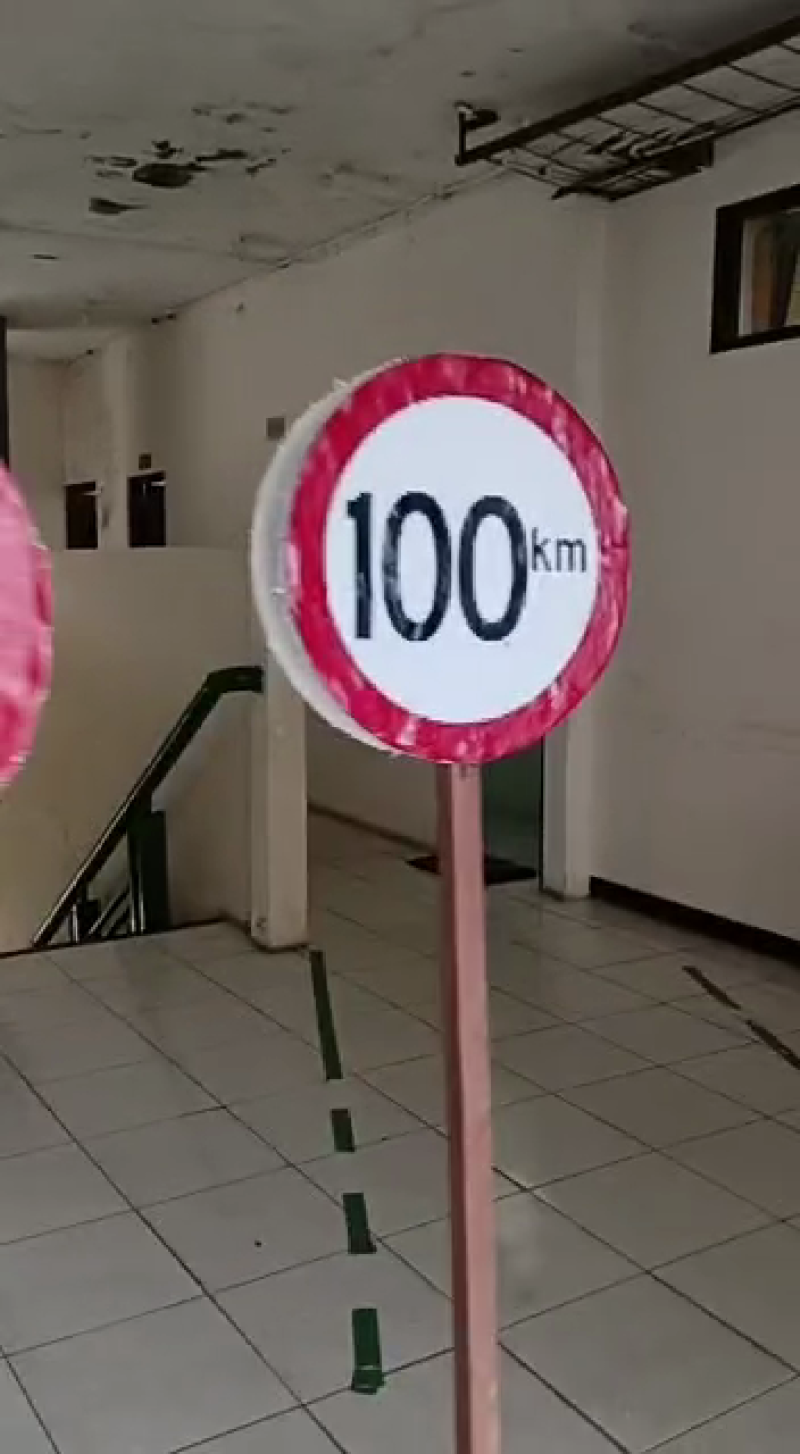batas maksimal 100kmperjam: (275, 337, 647, 776)
